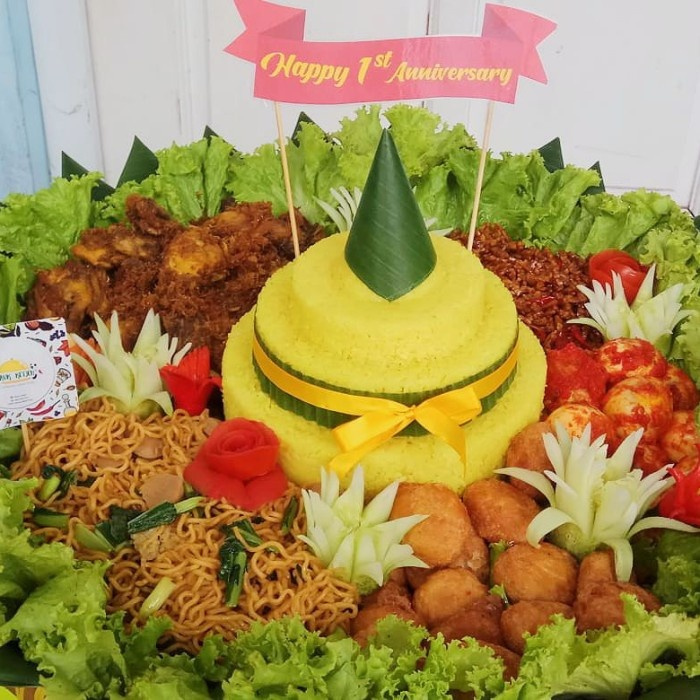tumpeng: (312, 118, 471, 323)
